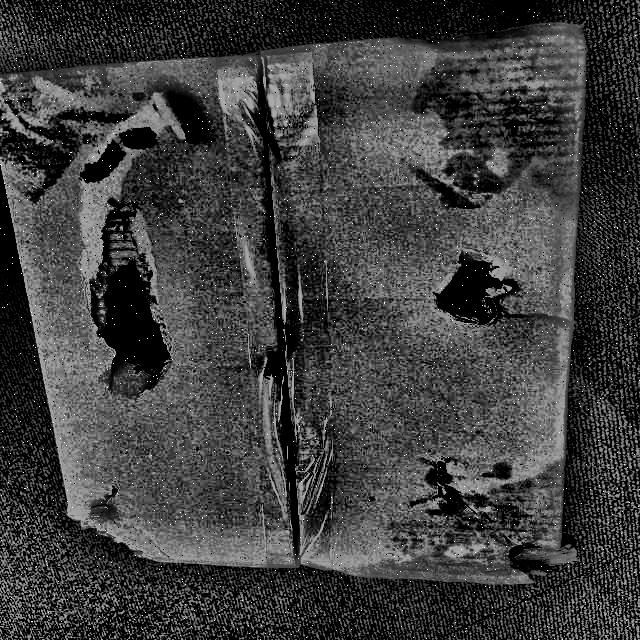box: (0, 19, 594, 596)
hole: (66, 222, 196, 414), (416, 246, 541, 348), (48, 494, 166, 574)
wet: (412, 20, 582, 216), (374, 469, 547, 587)
